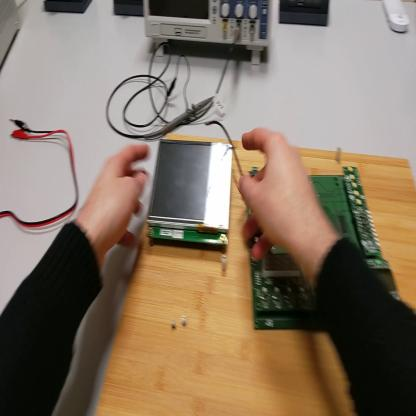hand: (237, 127, 318, 264), (85, 142, 151, 252)
low voltage board: (208, 120, 403, 332)
oscilloscope: (144, 1, 274, 72)
oscilloscope probe tip: (136, 92, 216, 136)
power supply: (2, 2, 23, 70)
socket: (44, 2, 94, 15), (114, 2, 143, 18)
working area: (97, 160, 416, 416)
